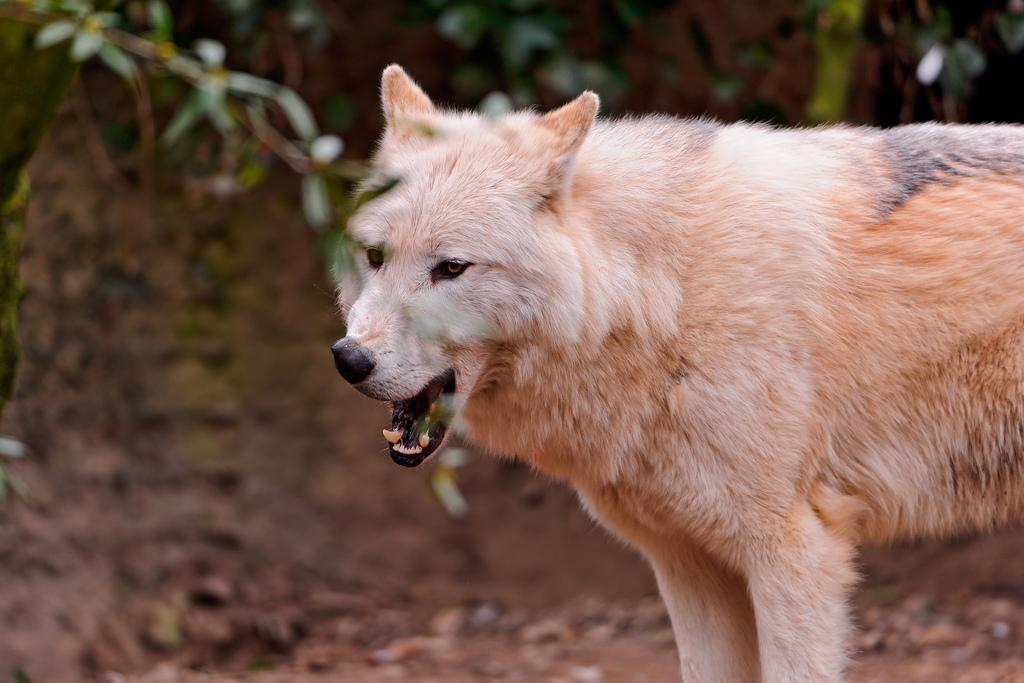Wolf: (333, 61, 1024, 683)
